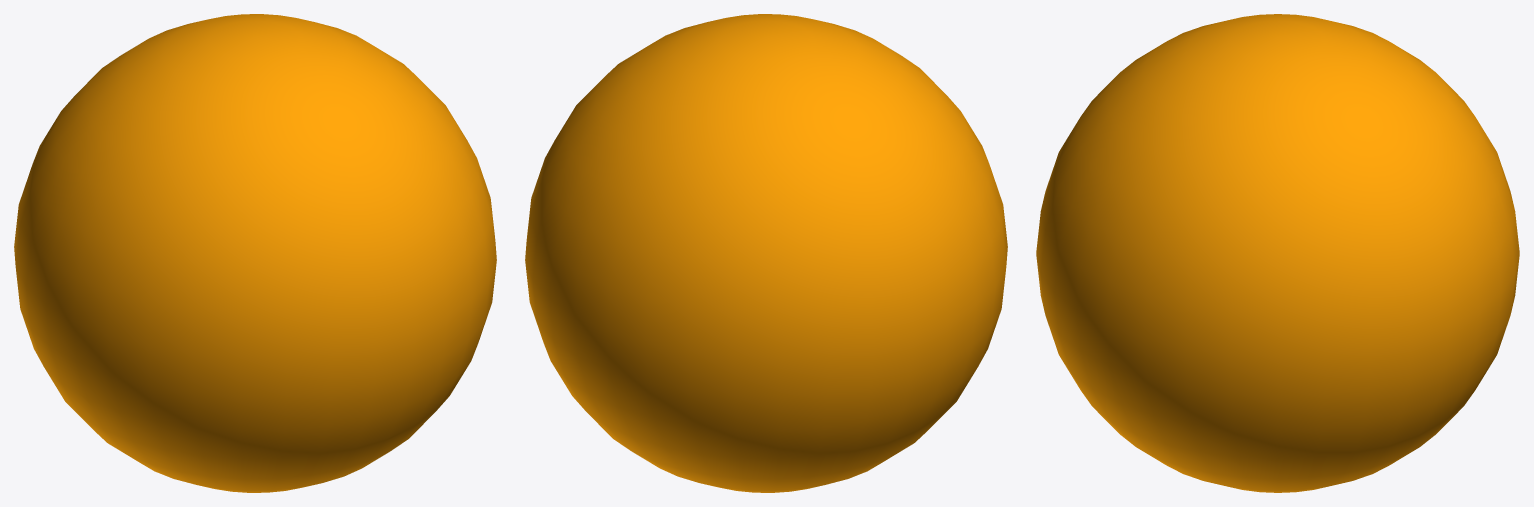
Rendered from pingpong_real.dae.
The picture shows the model from 3 angles, left to right: view 1: azimuth 30°, elevation 25°; view 2: azimuth 150°, elevation 25°; view 3: azimuth 270°, elevation 25°; orthographic projection.
Visible parts, largest first — view 1: Sphere.001; view 2: Sphere.001; view 3: Sphere.001.
Part boxes in pixels (left/top/right/bottom): Sphere.001: left=14, top=14, right=496, bottom=492; Sphere.001: left=525, top=14, right=1007, bottom=492; Sphere.001: left=1036, top=14, right=1519, bottom=492.
Bounding box in the file's own units: 0.0228 × 0.0228 × 0.0226.
